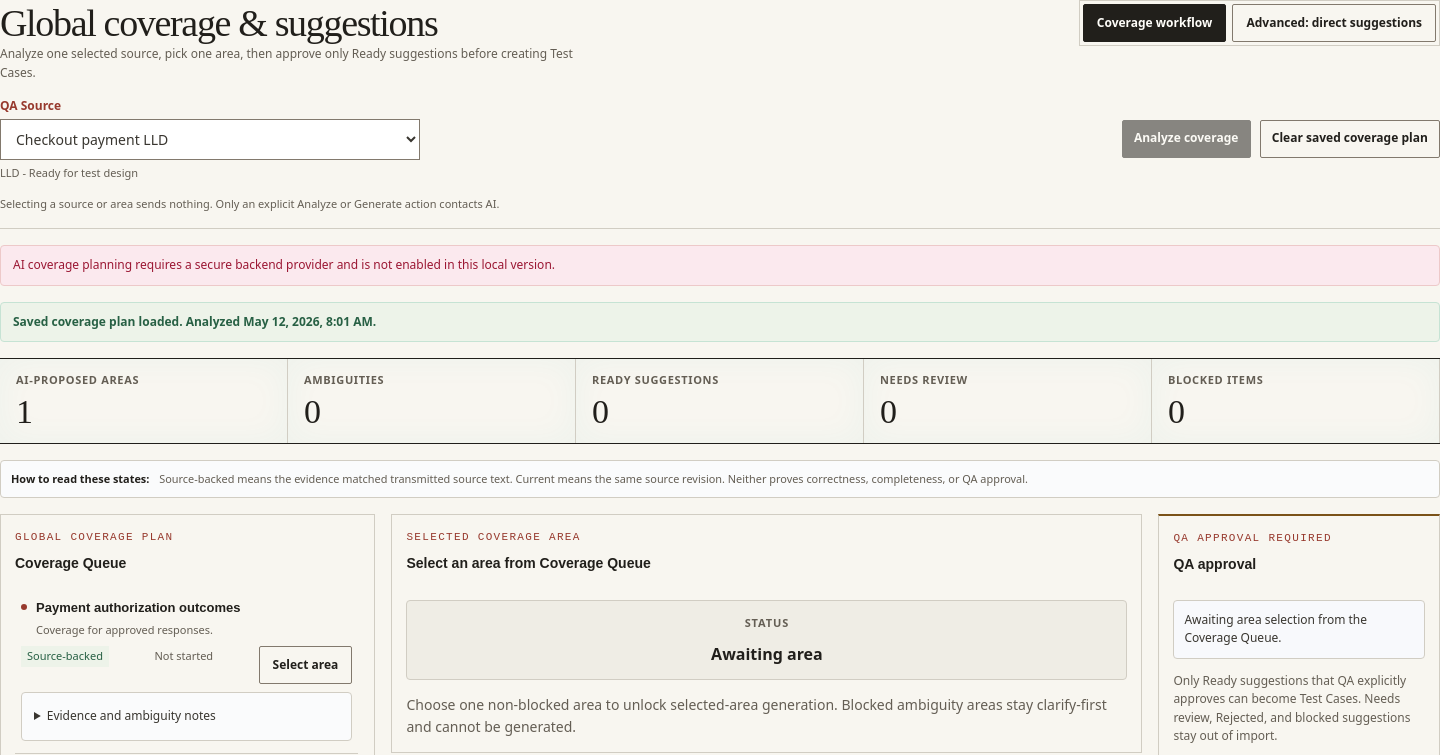
AiSuggestionsPage › waits for a saved area import, prevents duplicate writes and retains approval after failure
The width and height of the screenshot is (1440, 755).
Click the button "Select area" at (306, 665), box [259,646,352,684]
(page scrolled)
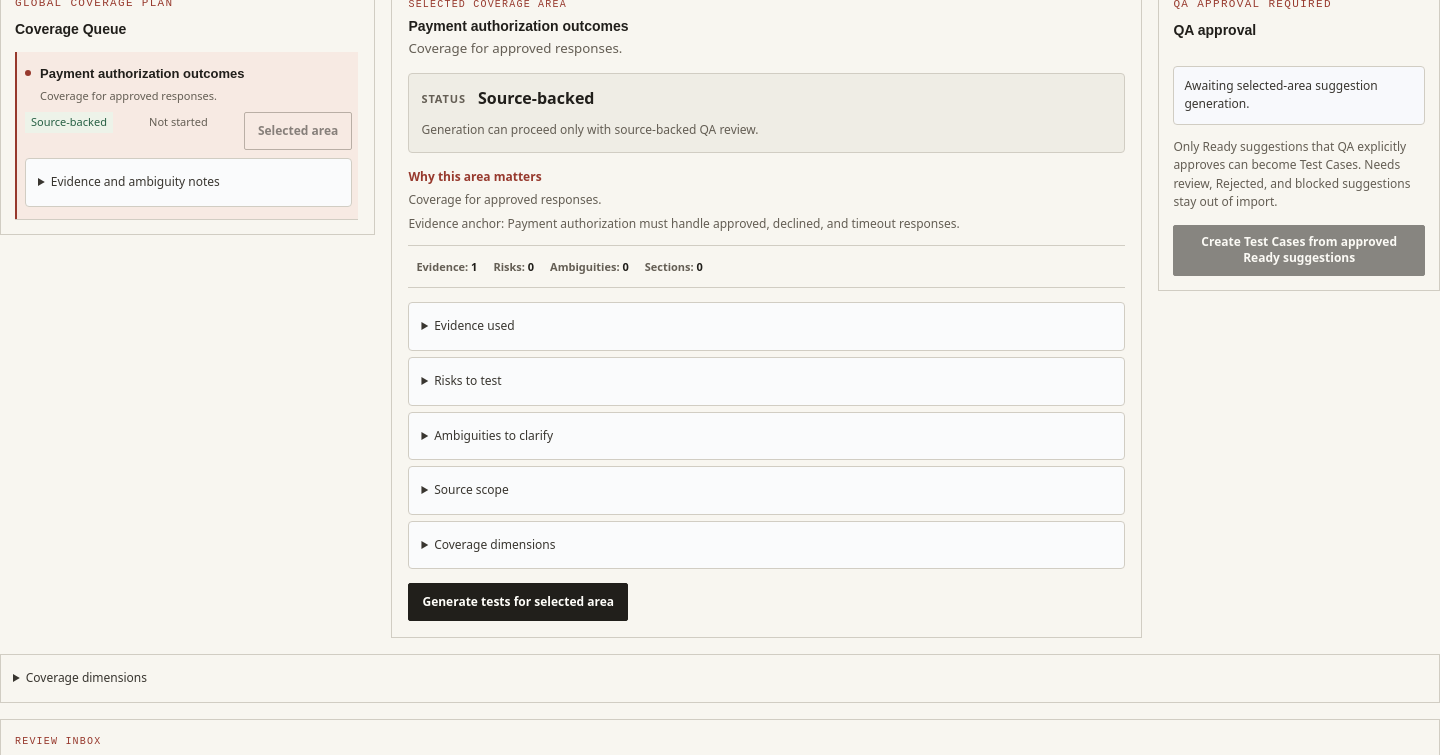
Click the button "Generate tests for selected area" at (518, 602), box [408,583,628,621]
(page scrolled)
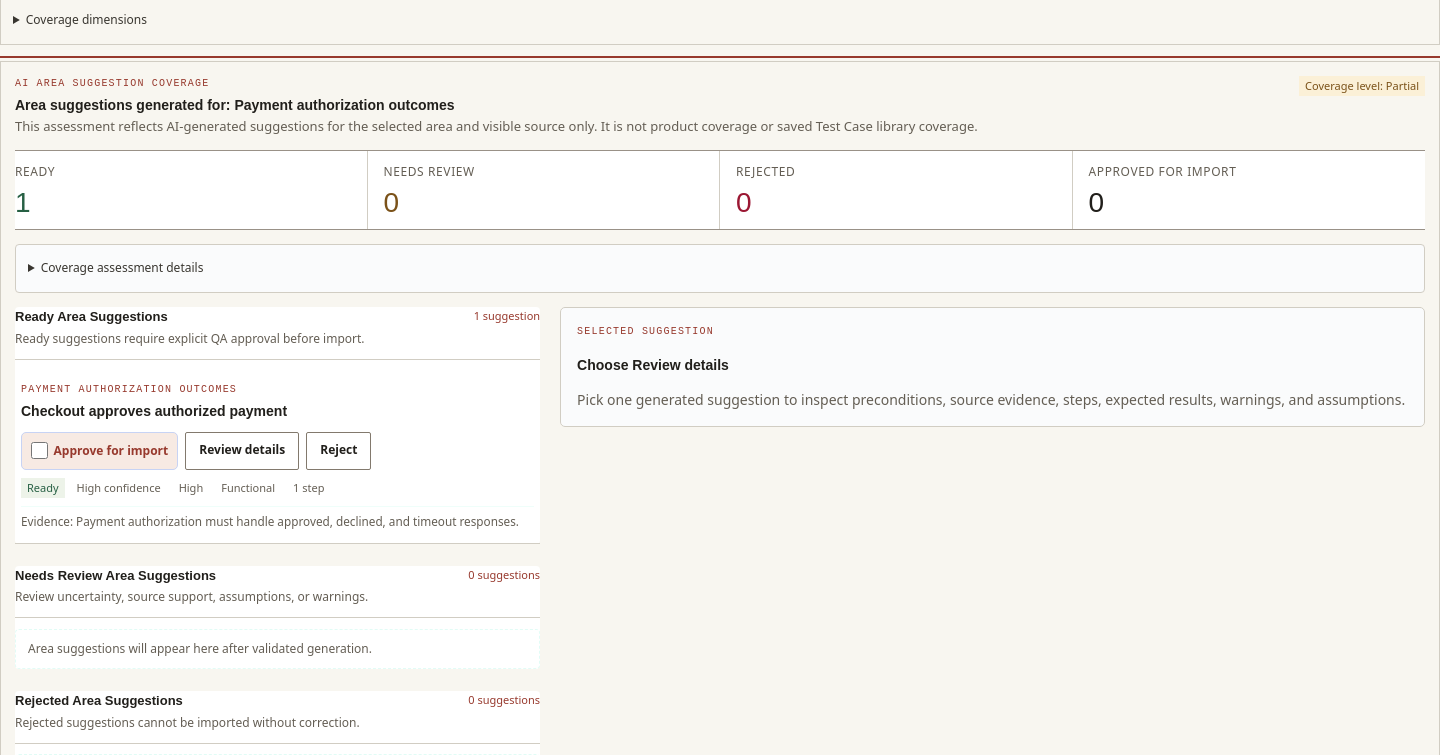
Click the checkbox labelled "Approve for import" at (40, 451), box [31,442,48,459]
(page scrolled)
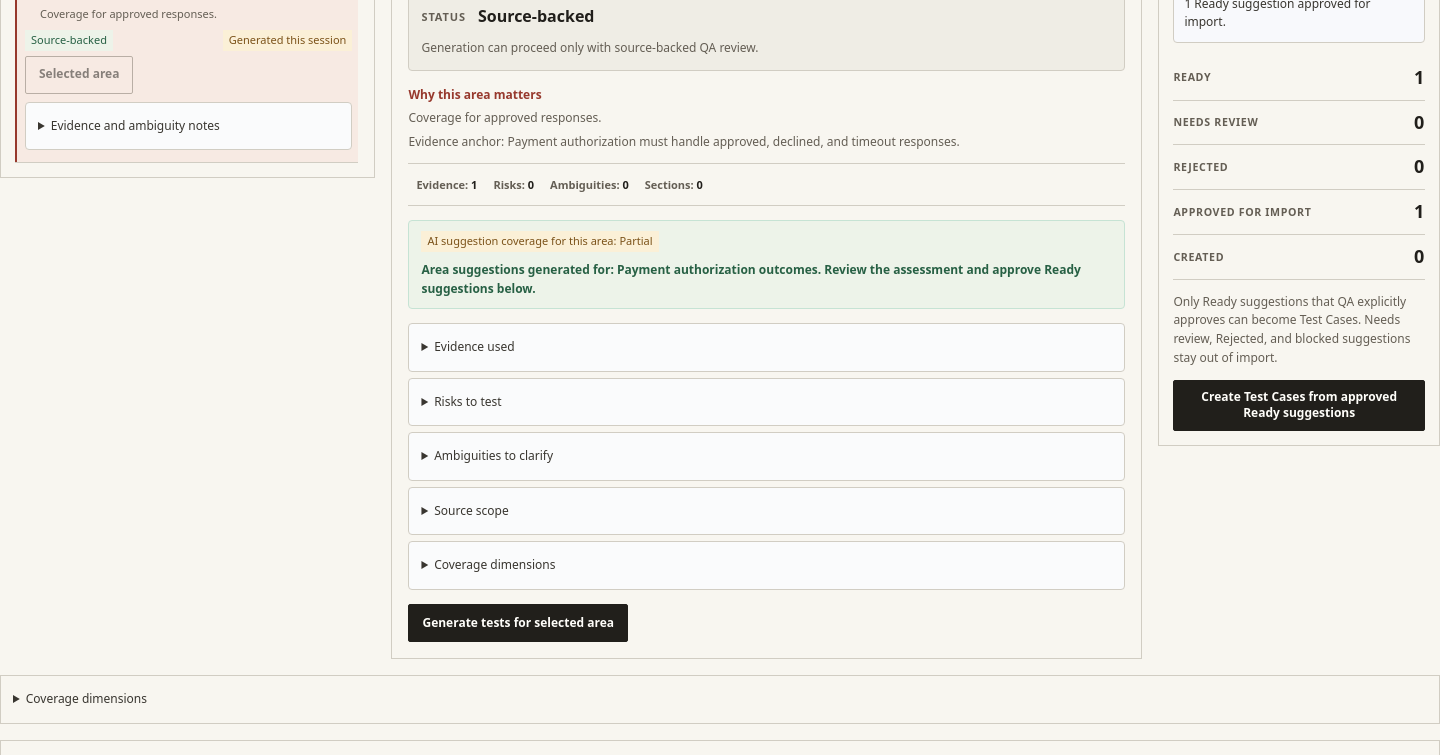
Double-click the button "Create Test Cases from approved Ready suggestions" at (1299, 406), box [1173,380,1425,431]
(page scrolled)
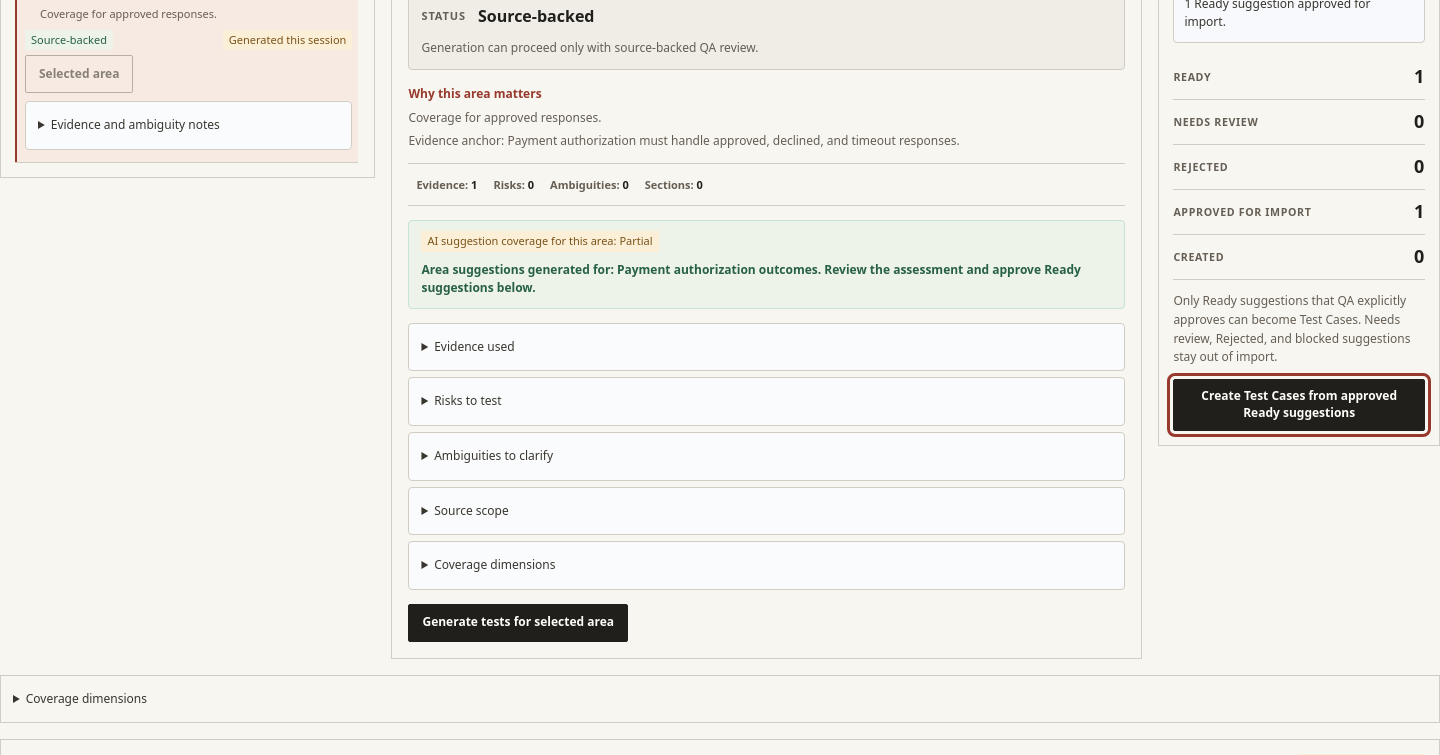
Click the button "Create Test Cases from approved Ready suggestions" at (1299, 405), box [1173,379,1425,431]
(page scrolled)
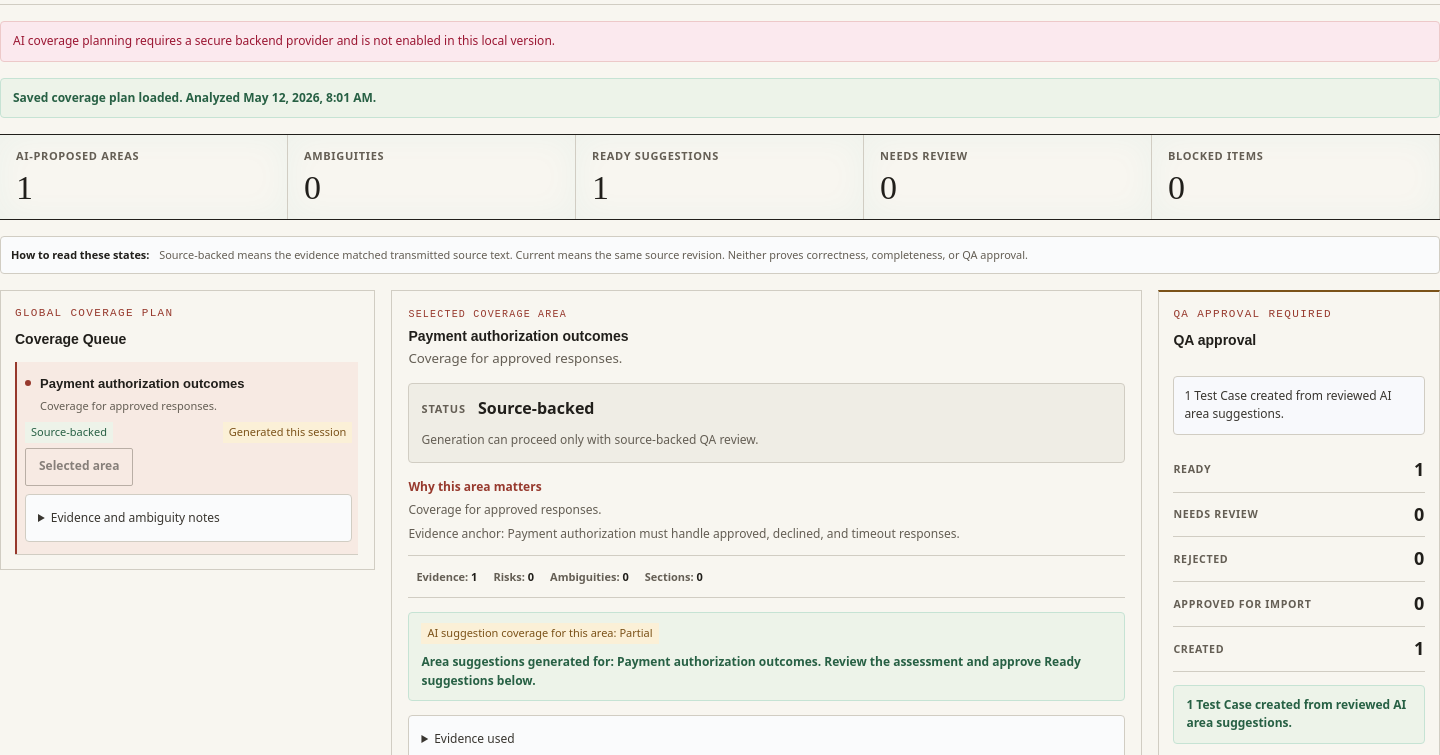
Check: the 1st text "1 Test Case created from reviewed AI area suggestions." is shown, box [1173,376,1425,435]
